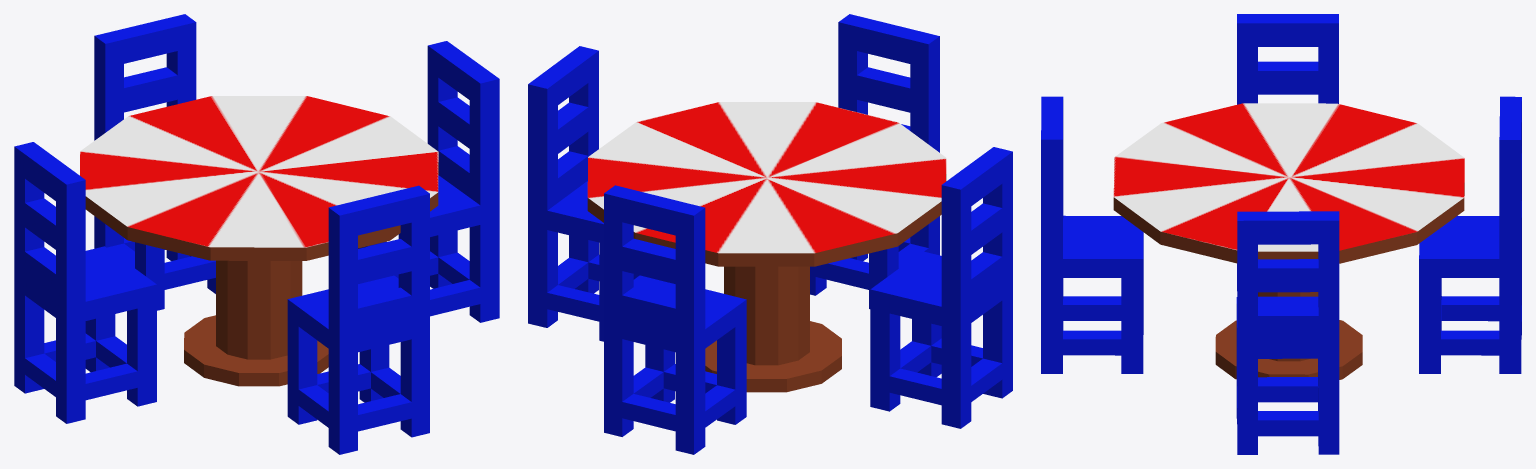
Rendered from tableAndChairs.fbx.
The picture shows the model from 3 angles, left to right: view 1: azimuth 30°, elevation 25°; view 2: azimuth 150°, elevation 25°; view 3: azimuth 270°, elevation 25°; orthographic projection. The views are drawn at different scales.
Parts seen in each view (by area): view 1: pCylinder1, pCube2, pCube1, pCube3, pCube4; view 2: pCylinder1, pCube4, pCube1, pCube3, pCube2; view 3: pCylinder1, pCube3, pCube2, pCube4, pCube1.
Part boxes in pixels (x1=…): pCylinder1: x1=80, y1=96, x2=438, y2=386; pCube2: x1=287, y1=185, x2=429, y2=454; pCube1: x1=14, y1=142, x2=156, y2=423; pCube3: x1=358, y1=41, x2=499, y2=322; pCube4: x1=94, y1=14, x2=215, y2=310; pCylinder1: x1=587, y1=102, x2=946, y2=392; pCube4: x1=604, y1=185, x2=746, y2=454; pCube1: x1=870, y1=147, x2=1012, y2=428; pCube3: x1=528, y1=46, x2=653, y2=341; pCube2: x1=810, y1=14, x2=939, y2=308; pCylinder1: x1=1113, y1=103, x2=1464, y2=379; pCube3: x1=1236, y1=211, x2=1339, y2=454; pCube2: x1=1041, y1=96, x2=1143, y2=373; pCube4: x1=1419, y1=96, x2=1521, y2=373; pCube1: x1=1237, y1=14, x2=1338, y2=290.
Bounding box in the file's own units: 11.2 × 6.01 × 11.
1 material, 1 textured.
